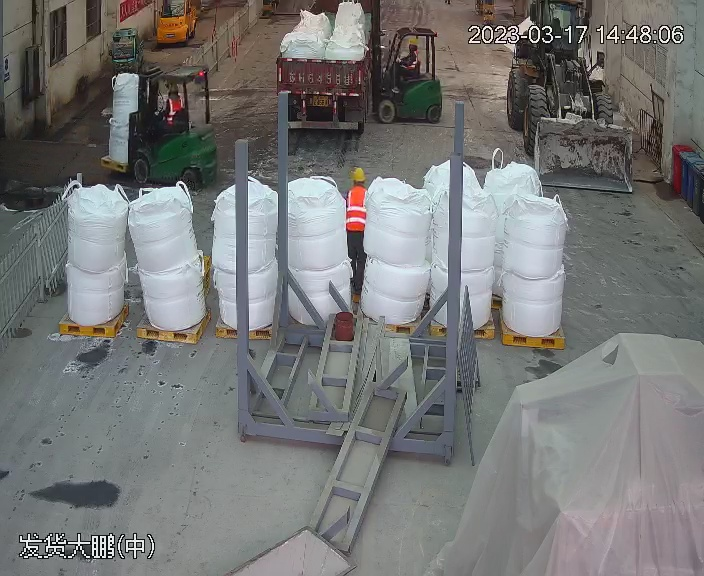head: (345, 167, 369, 206), (401, 36, 421, 60)
helmet: (350, 166, 366, 181), (406, 36, 419, 45)
people: (343, 164, 370, 287), (389, 35, 420, 94)
truck: (272, 0, 384, 129)
